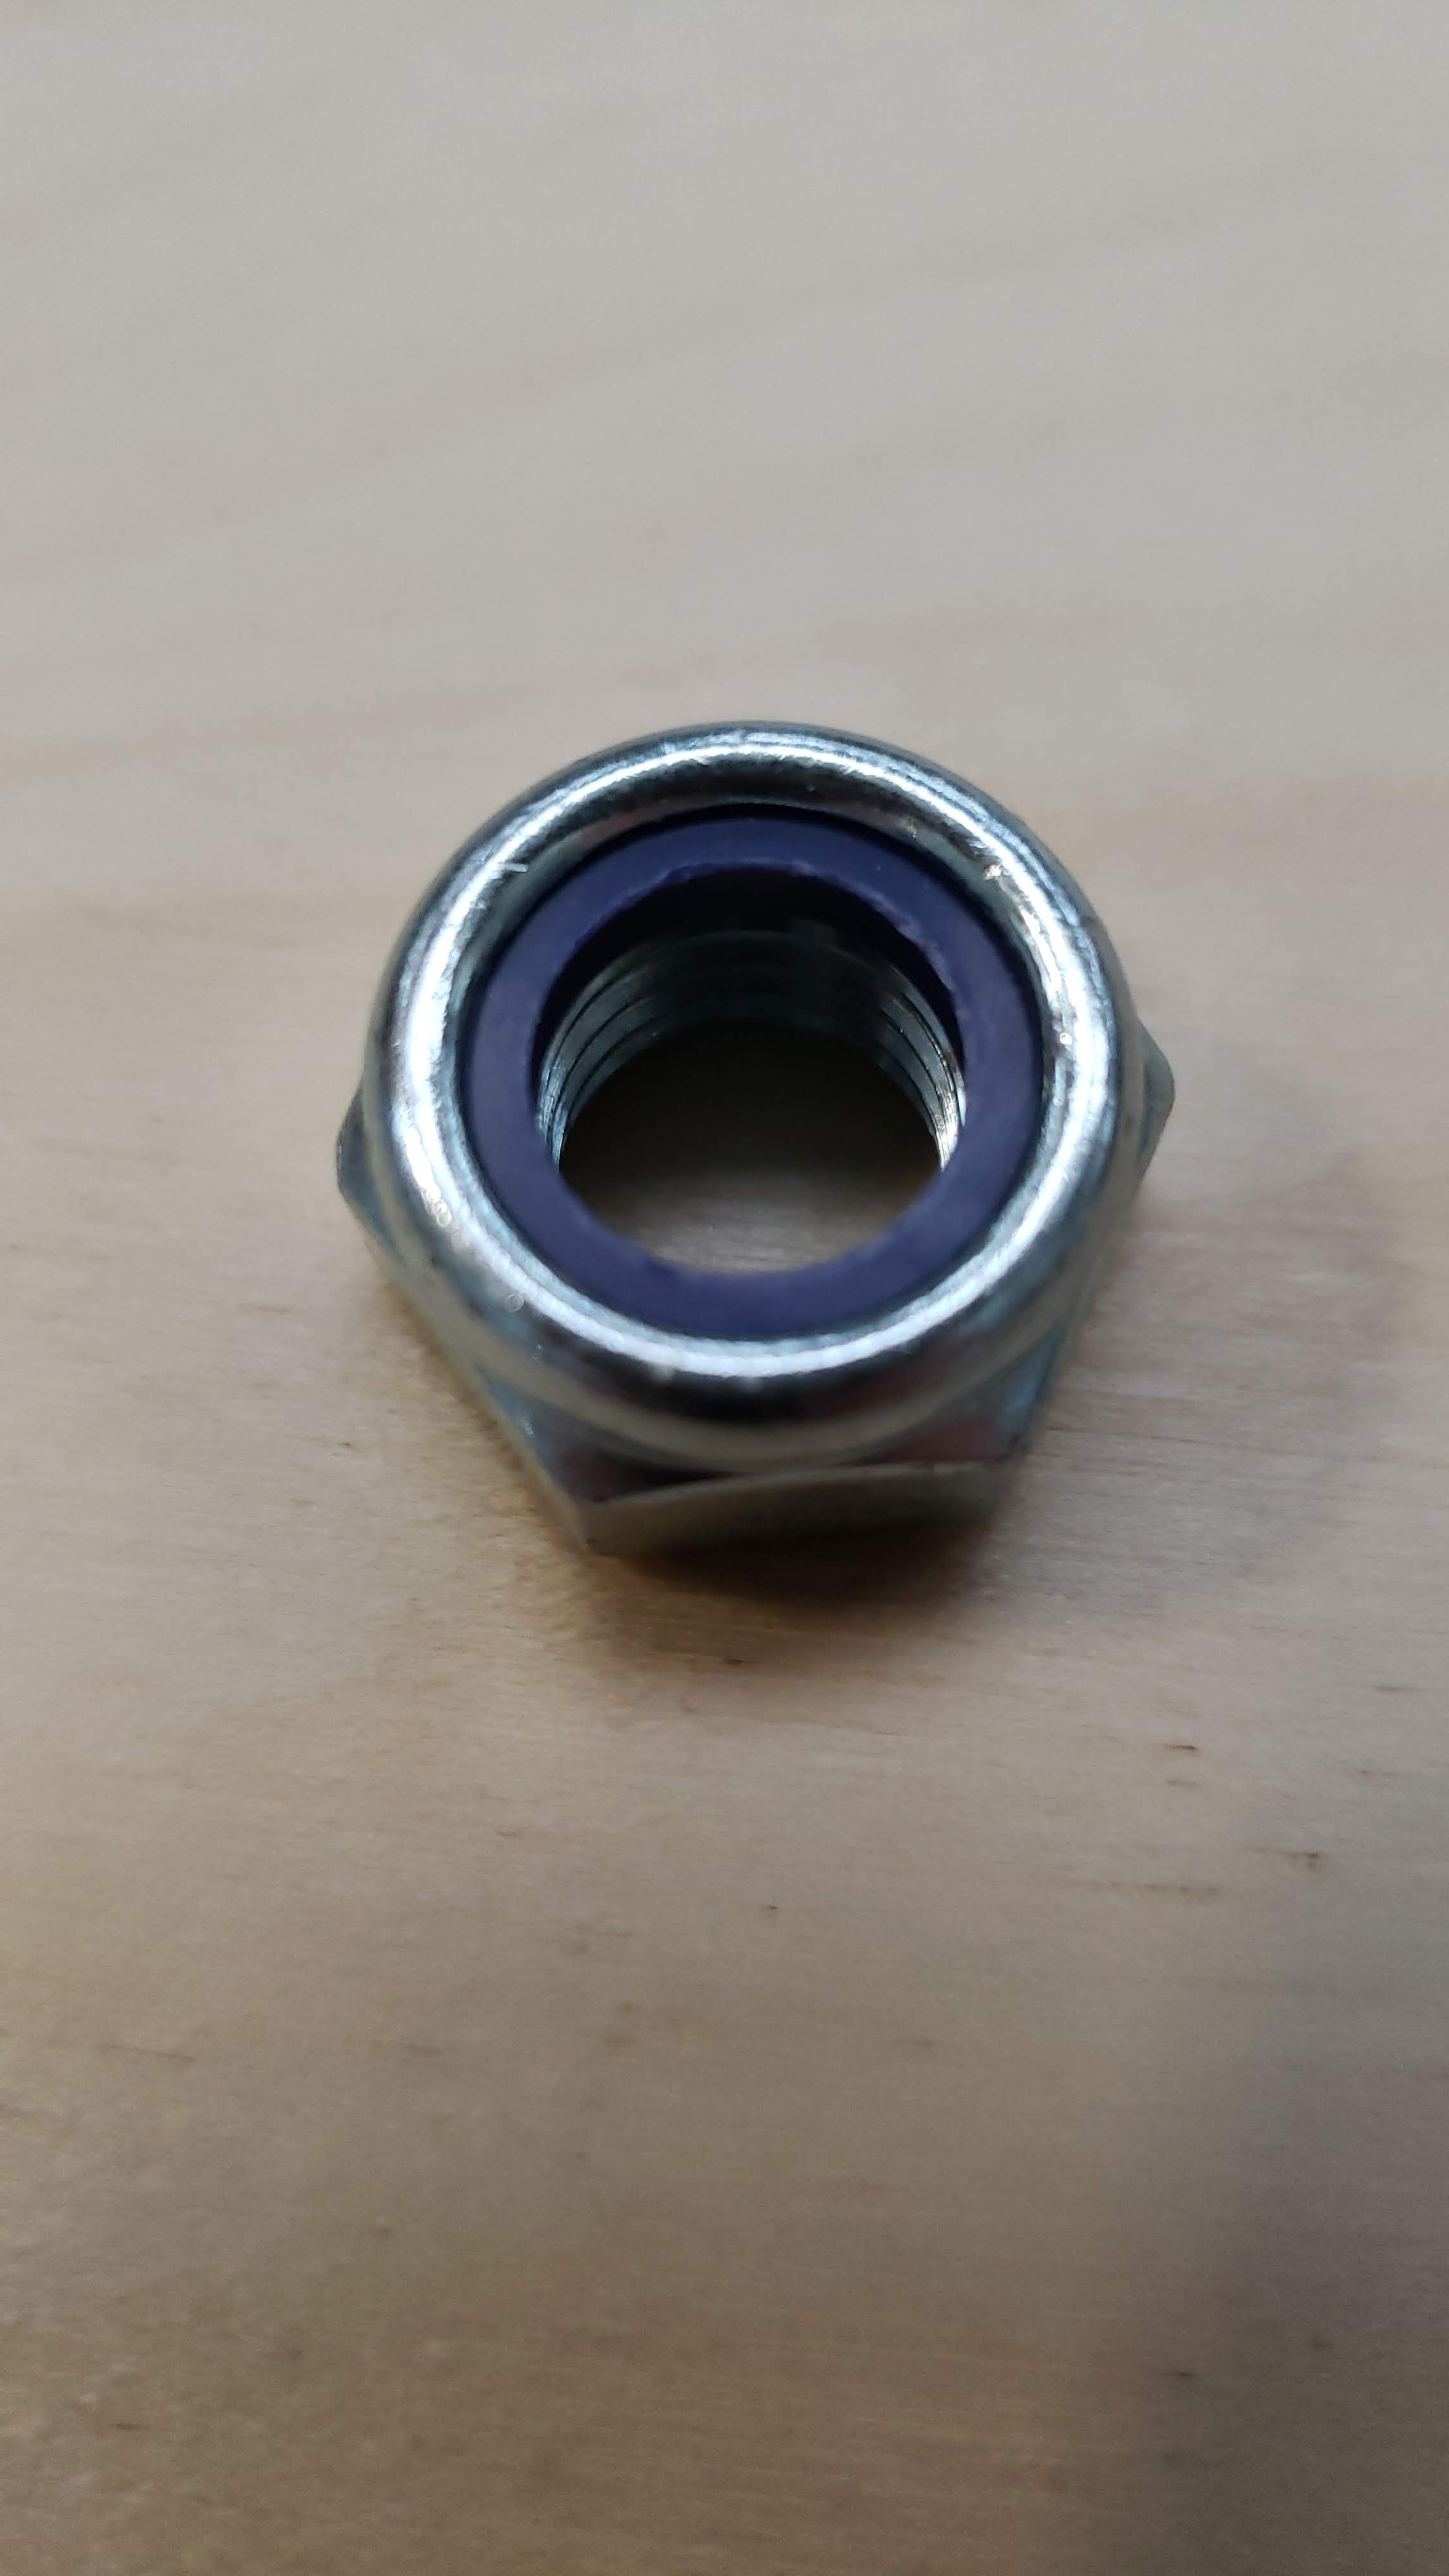Nut: (257, 600, 1290, 1723)
